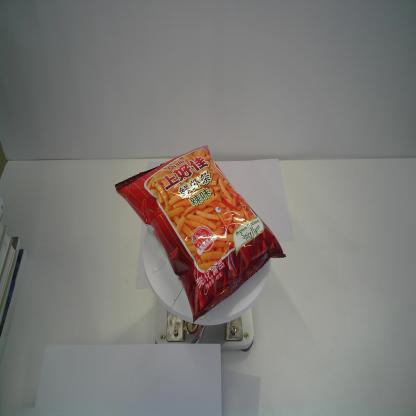Puffed Food: (114, 144, 287, 322)
